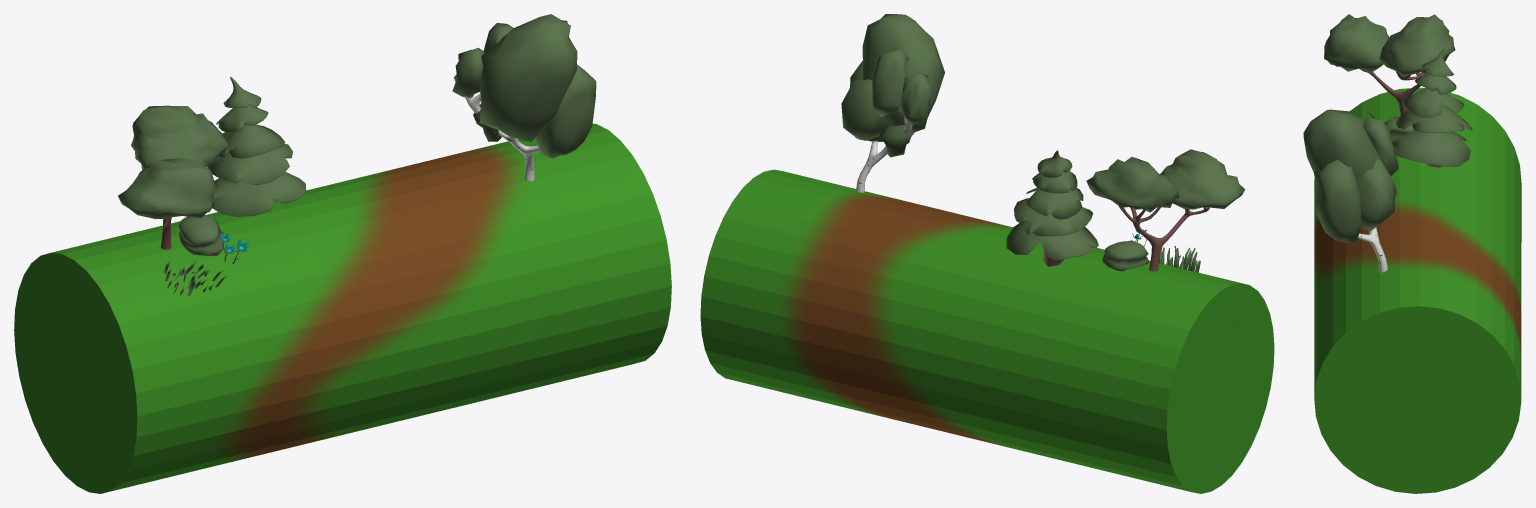
3 renders of one model, left to right at view 1: azimuth 30°, elevation 25°; view 2: azimuth 150°, elevation 25°; view 3: azimuth 270°, elevation 25°, orthographic. The views are drawn at different scales.
Parts seen in each view (by area): view 1: Cylinder; view 2: Cylinder; view 3: Cylinder.
Part boxes in pixels (x1=…): Cylinder: x1=14, y1=14, x2=671, y2=493; Cylinder: x1=700, y1=14, x2=1274, y2=493; Cylinder: x1=1303, y1=14, x2=1521, y2=493.
Bounding box in the file's own units: 14.5 × 10.36 × 6.11.
14 materials, 1 textured.
